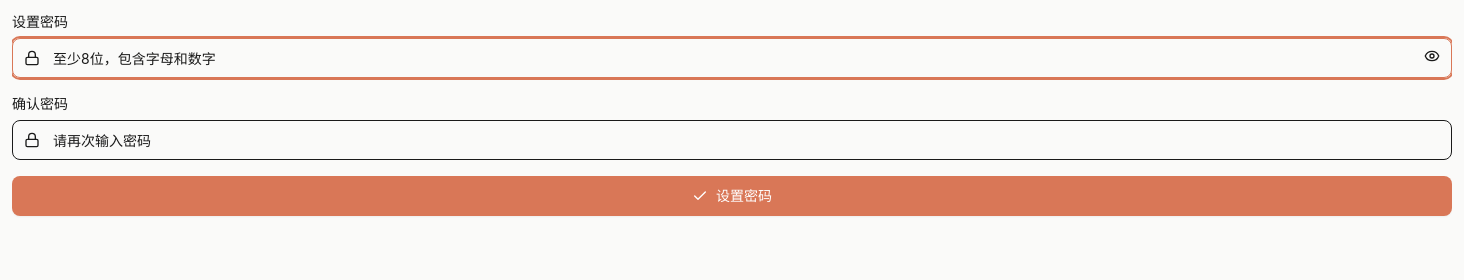
SetPasswordForm 组件 › 空密码提交 - 显示错误
Click the button "设置密码": point(732, 196) [12, 176, 1452, 216]
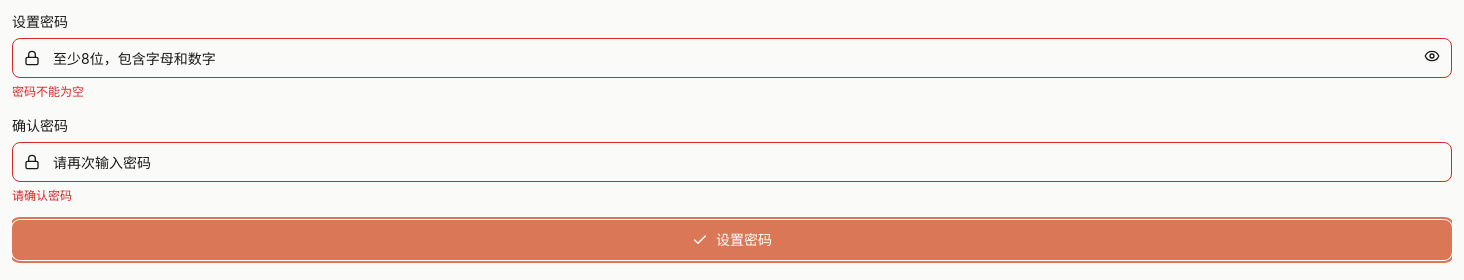
Expected: the text "密码不能为空" is shown, [12, 84, 84, 99]
